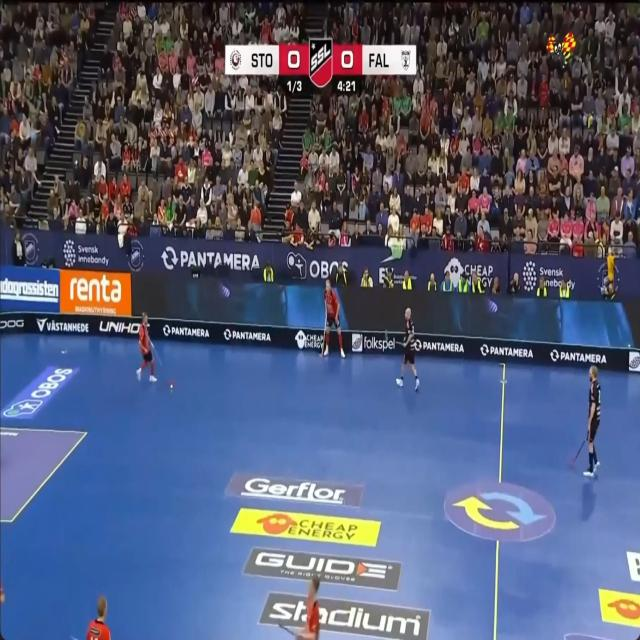Balls: (170, 382, 172, 390)
player: (396, 308, 419, 390), (322, 279, 345, 357), (584, 366, 600, 477), (297, 575, 319, 639), (136, 312, 156, 382), (86, 596, 110, 639)
stick: (320, 303, 328, 355), (570, 439, 586, 463), (150, 339, 163, 366), (278, 624, 297, 636)
